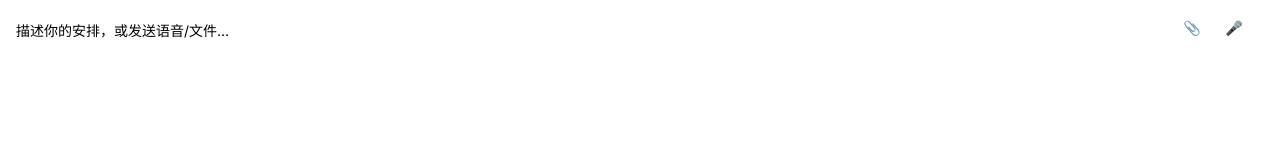
Scenario: Composer voice input › uses one voice entry and keeps attachment input in text mode only
Check: the button named "添加附件" is shown, box [1174,12,1210,44]
Step 1. Click the button named "语音" → [1234, 28], box [1216,12,1252,44]
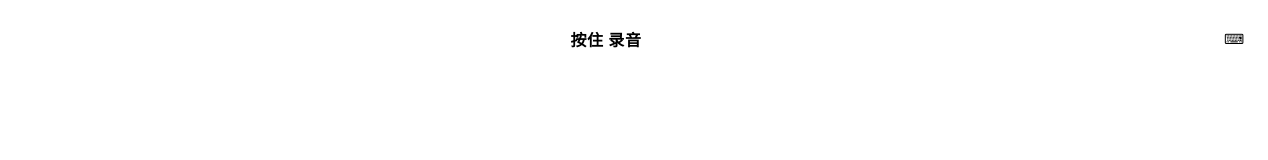
Check: the button "添加附件" is gone
Check: the button named "文字" is shown, box [1216,23,1252,55]
